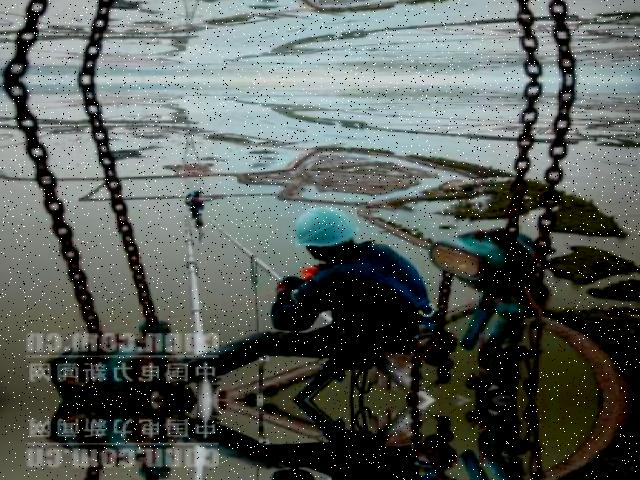Helmet: (291, 200, 362, 258)
